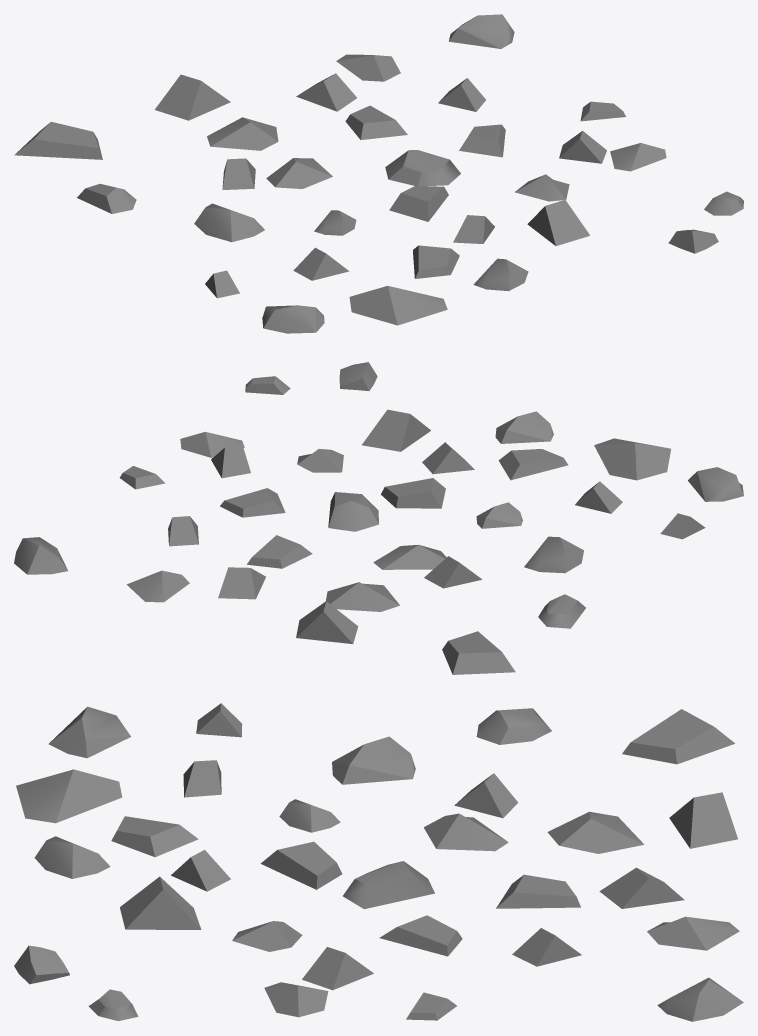
The model's file is towerrubble.fbx.
3 views of the same model, one above another, from view 1: azimuth 30°, elevation 25°; view 2: azimuth 150°, elevation 25°; view 3: azimuth 270°, elevation 25° (orthographic). The views are drawn at different scales.
Visible parts, largest first — view 1: polySurface1; view 2: polySurface1; view 3: polySurface1.
Part boxes in pixels (bbox=[...]): polySurface1: bbox=[14, 14, 743, 333]; polySurface1: bbox=[14, 362, 743, 674]; polySurface1: bbox=[14, 703, 743, 1021].
Bounding box in the file's own units: 5.91 × 0.308 × 5.98.
Materials: 1 (1 with a texture image).
